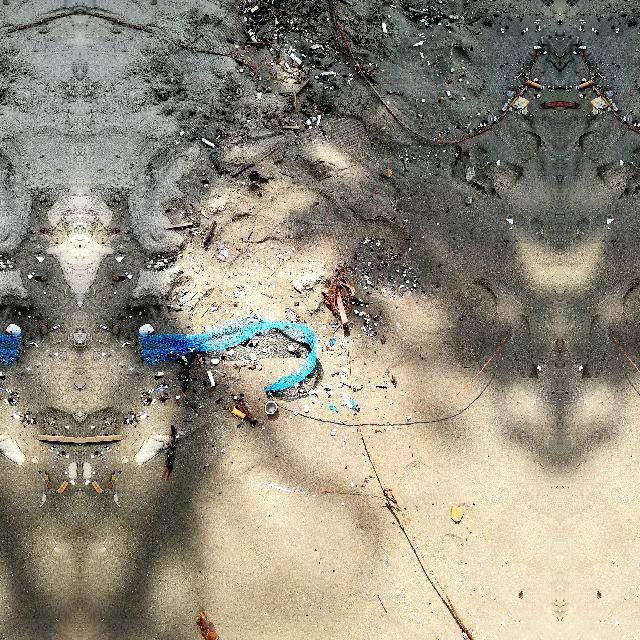Plastic: (134, 313, 323, 395)
